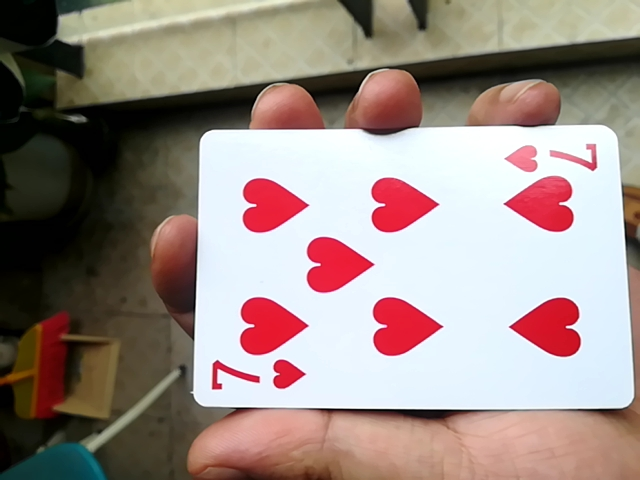hx 7: (178, 126, 622, 415)
